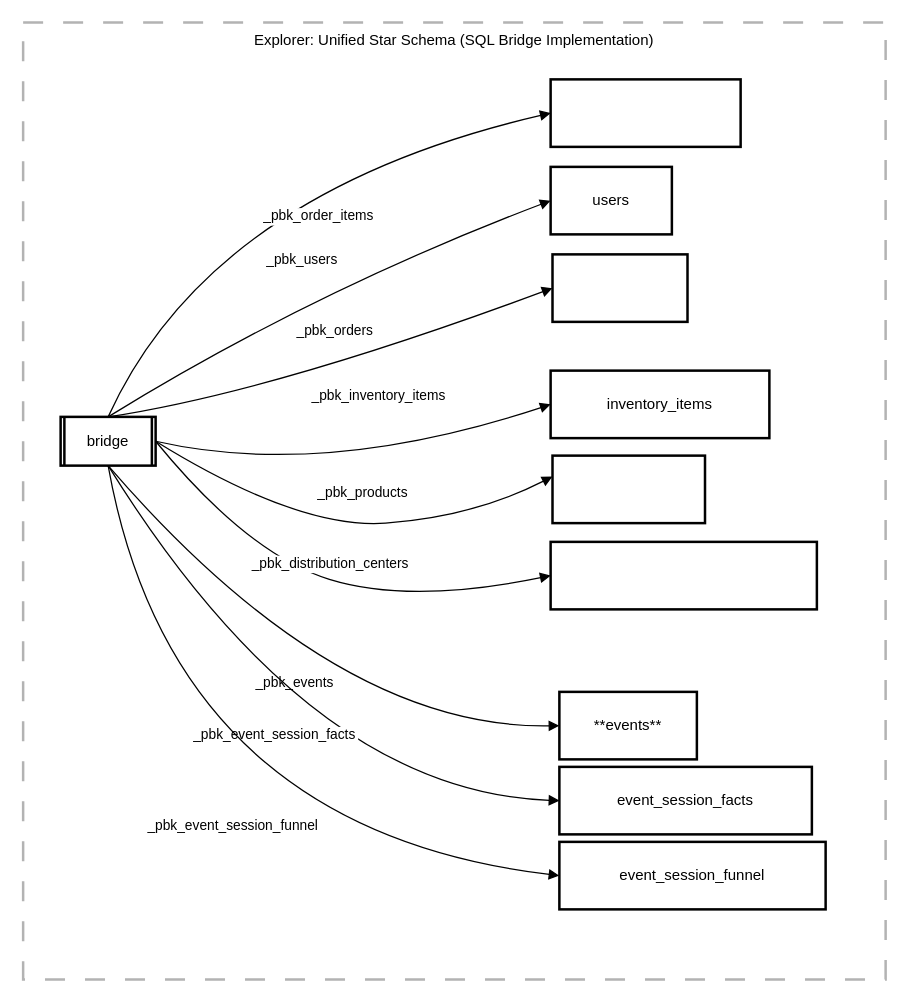
The diagram is 908 pixels wide and 1003 high, and some of its shapes have lost their labels. The shapes that lost their labels are listed below. From the top down, each one's box as (x1, y1, x2, y2) in pixels, then its label:
(549, 78, 741, 148): **order_items**
(551, 252, 688, 322): **orders**
(551, 454, 706, 524): products
(549, 540, 818, 610): **distribution_centers**
